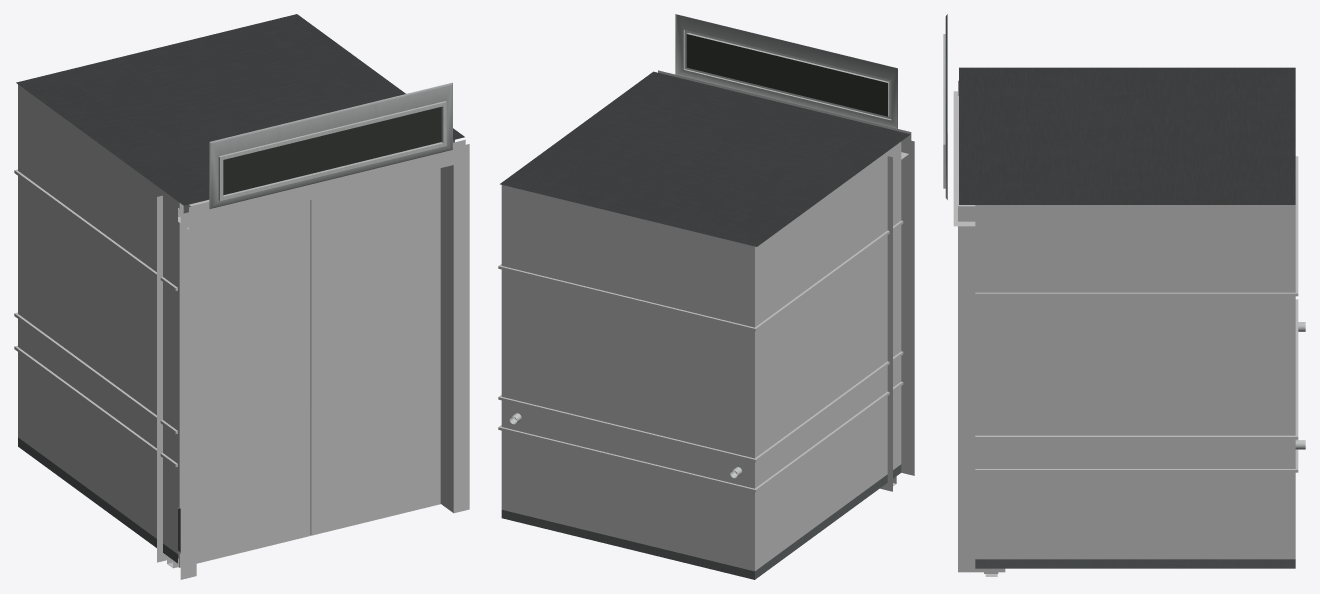
The model's file is elevator_for_uniyu.fbx.
The picture shows the model from 3 angles, left to right: view 1: azimuth 30°, elevation 25°; view 2: azimuth 150°, elevation 25°; view 3: azimuth 270°, elevation 25°; orthographic projection. The views are drawn at different scales.
Visible parts, largest first — view 1: elevator_bod_LP, elevator_door_R, elevator_door_L, elevator_roof_LP, elevator_door_base_LP, elevator_screen_LP, elevator_door_top_trim_LP, elevator_bod_trim_LP; view 2: elevator_bod_LP, elevator_roof_LP, elevator_screen_LP, elevator_door_base_LP, elevator_bod_trim_LP, elevator_door_top_trim_LP; view 3: elevator_bod_LP, elevator_roof_LP, elevator_door_base_LP, elevator_bod_trim_LP, elevator_door_top_trim_LP, elevator_screen_LP.
Part boxes in pixels (x1=…): elevator_bod_LP: x1=14, y1=84, x2=454, y2=553; elevator_door_R: x1=310, y1=168, x2=440, y2=535; elevator_door_L: x1=178, y1=200, x2=310, y2=567; elevator_roof_LP: x1=16, y1=14, x2=464, y2=205; elevator_door_base_LP: x1=157, y1=144, x2=469, y2=579; elevator_screen_LP: x1=209, y1=82, x2=452, y2=208; elevator_door_top_trim_LP: x1=178, y1=139, x2=465, y2=229; elevator_bod_trim_LP: x1=18, y1=437, x2=180, y2=563; elevator_bod_LP: x1=498, y1=142, x2=903, y2=571; elevator_roof_LP: x1=500, y1=71, x2=910, y2=246; elevator_screen_LP: x1=675, y1=14, x2=897, y2=128; elevator_door_base_LP: x1=880, y1=139, x2=914, y2=491; elevator_bod_trim_LP: x1=501, y1=464, x2=901, y2=579; elevator_door_top_trim_LP: x1=658, y1=70, x2=911, y2=159; elevator_bod_LP: x1=975, y1=156, x2=1298, y2=559; elevator_roof_LP: x1=959, y1=67, x2=1295, y2=204; elevator_door_base_LP: x1=958, y1=80, x2=1005, y2=573; elevator_bod_trim_LP: x1=975, y1=559, x2=1295, y2=568; elevator_door_top_trim_LP: x1=953, y1=91, x2=975, y2=226; elevator_screen_LP: x1=943, y1=14, x2=947, y2=199.
Size of the model in its own units: 192 by 278 by 209.
